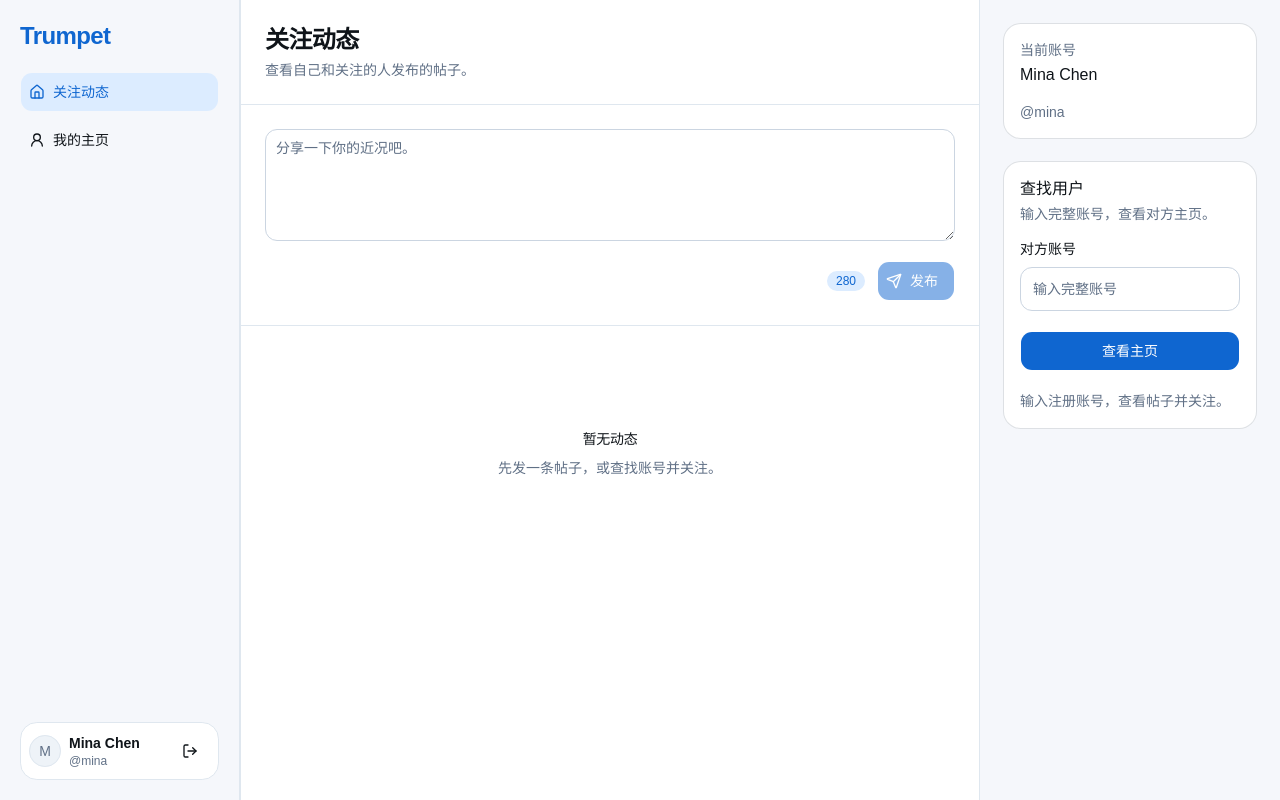
Test case: allows replying from a user profile and refreshes its reply count
Type "leo" into the field labelled "对方账号" at (1130,289), box [1020,267,1240,311]
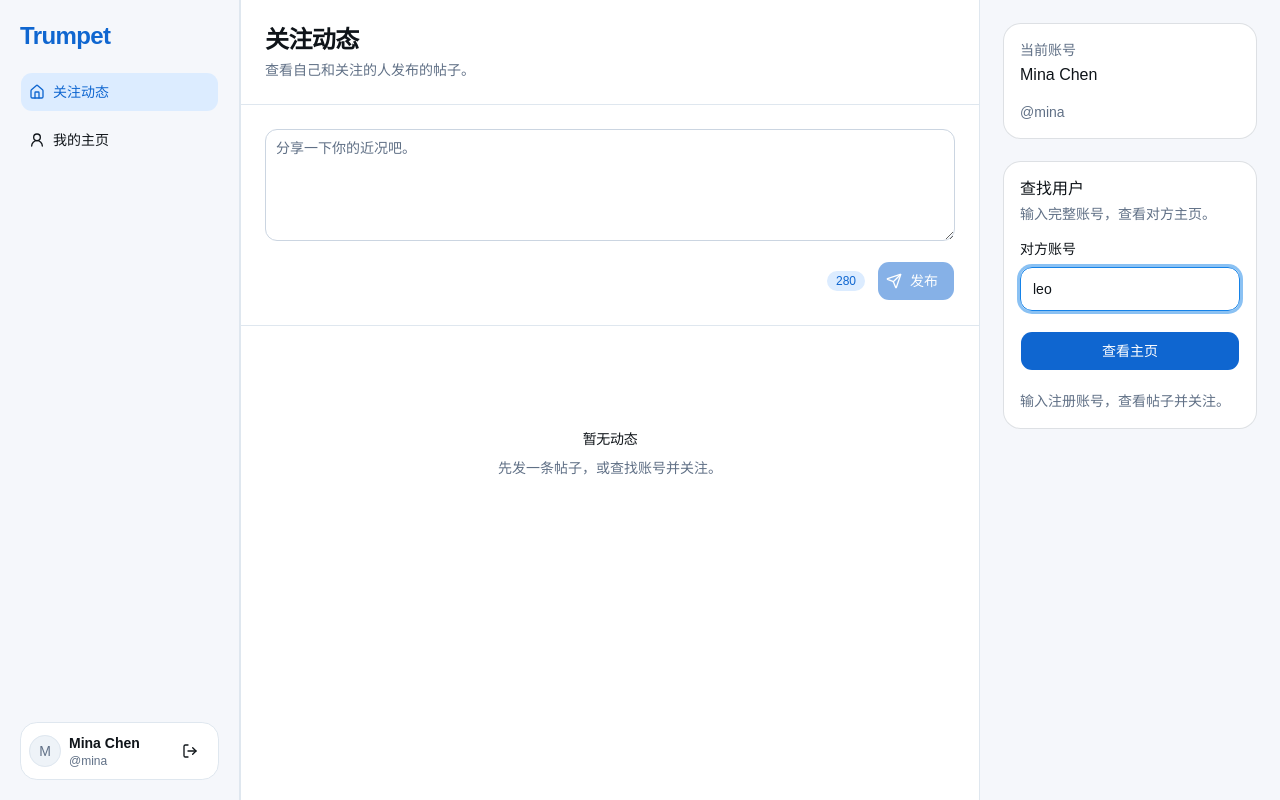
Click the button "查看主页" at (1130,351), box [1020,331,1240,371]
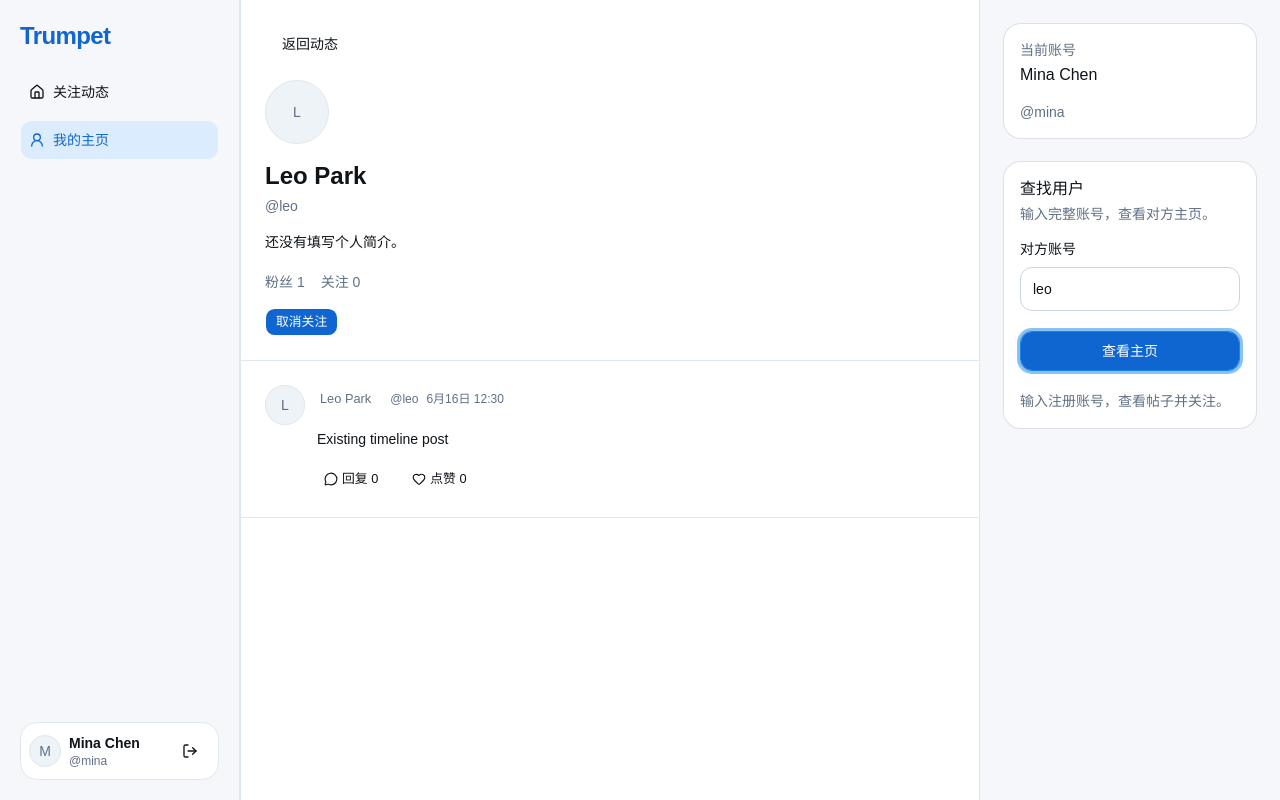
Click the button "回复 0" at (353,479), box [317,465,389,493]
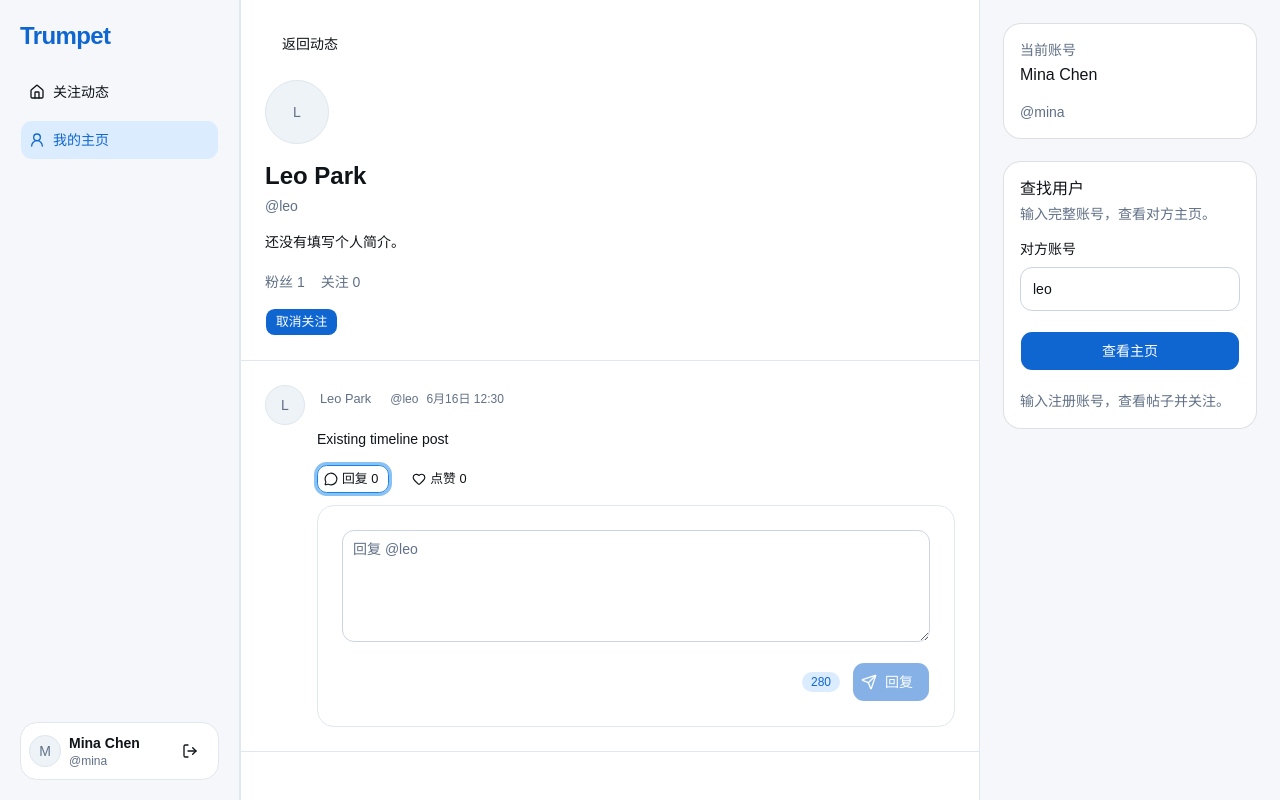
Type "Profile reply" into the text box named "回复内容" at (636,586), box [342,530,930,642]
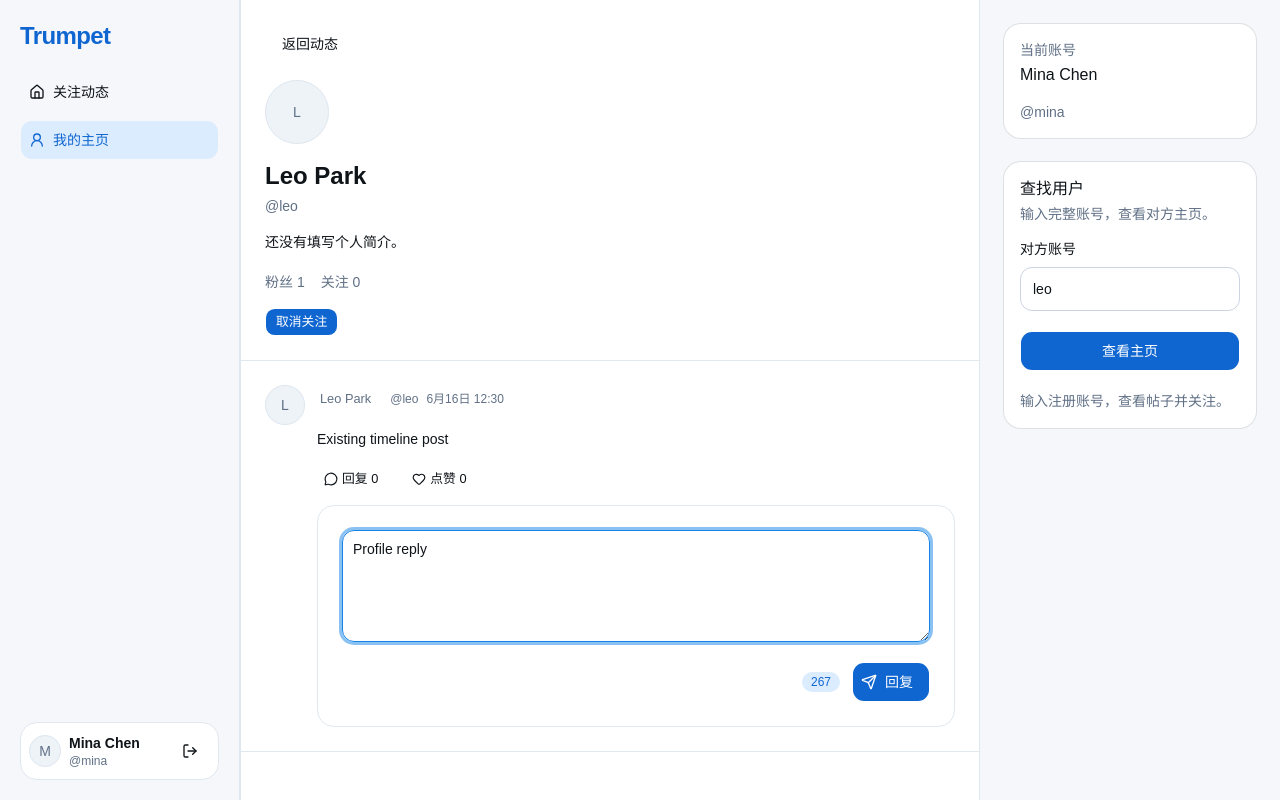
Click the button "回复" at (891,682), box [852,662,930,702]
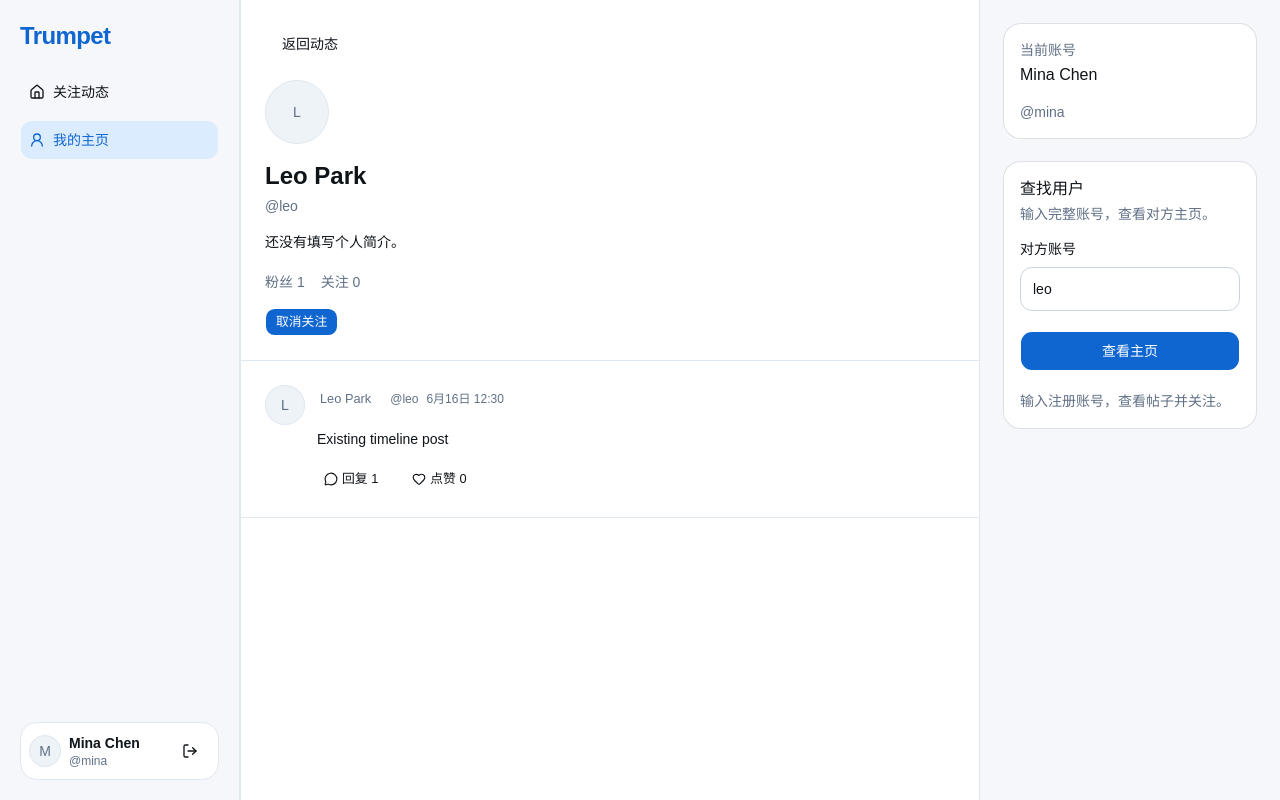
Now the button "回复 1" is shown, box [317,465,389,493]
